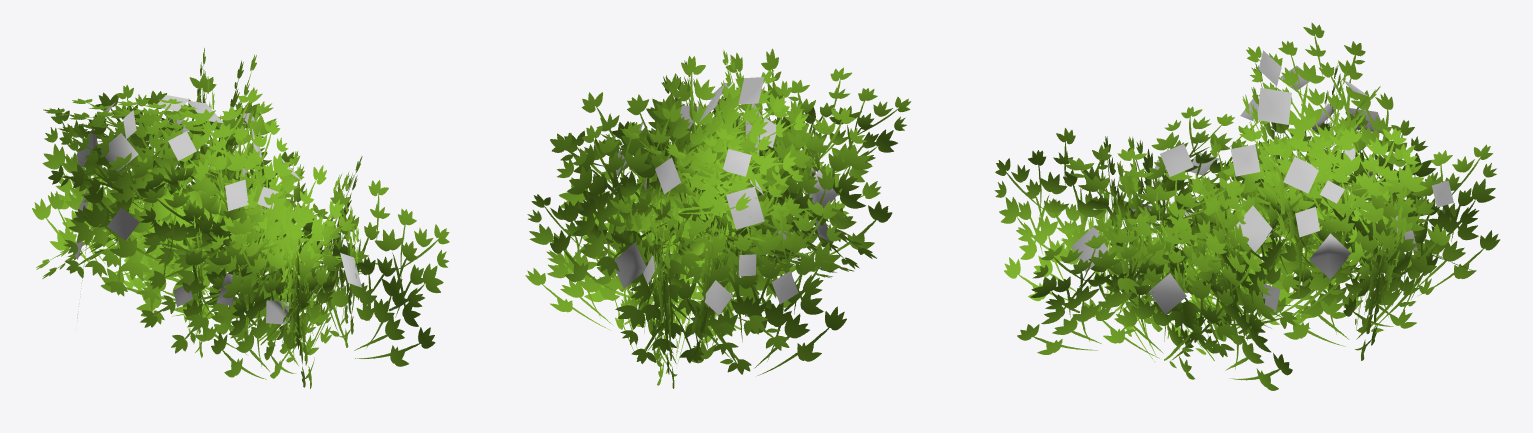
The model's file is SM_FlowerBush02.fbx.
3 renders of one model, left to right at view 1: azimuth 30°, elevation 25°; view 2: azimuth 150°, elevation 25°; view 3: azimuth 270°, elevation 25°, orthographic. The views are drawn at different scales.
Parts seen in each view (by area): view 1: SM_FlowerBush02; view 2: SM_FlowerBush02; view 3: SM_FlowerBush02.
Part boxes in pixels (bbox=[...]): SM_FlowerBush02: bbox=[32, 48, 449, 388]; SM_FlowerBush02: bbox=[525, 48, 911, 388]; SM_FlowerBush02: bbox=[994, 22, 1500, 390].
Size of the model in its own units: 346 by 279 by 462.
